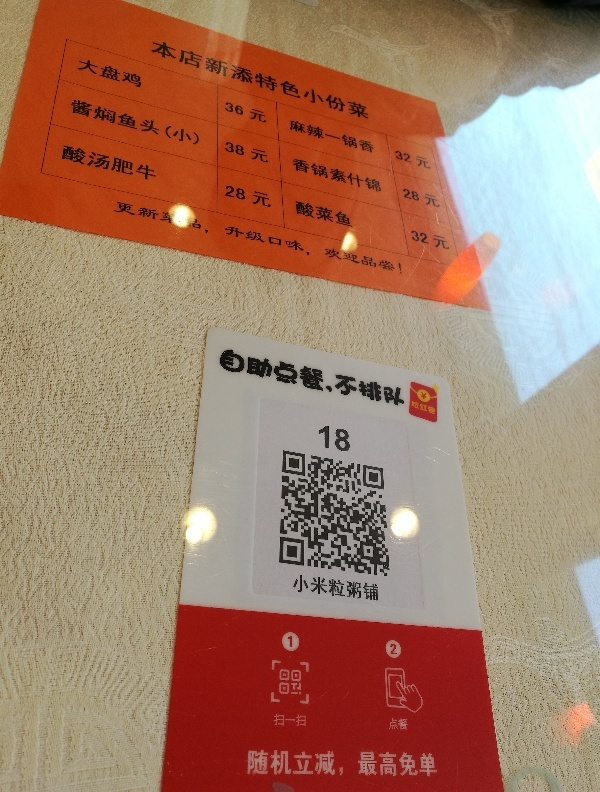text: (161, 37, 176, 122), (177, 37, 192, 122), (193, 37, 208, 122), (209, 37, 224, 122), (225, 37, 240, 122), (241, 37, 256, 122), (257, 37, 272, 122), (273, 37, 288, 122), (289, 37, 304, 122), (305, 37, 320, 122), (321, 37, 336, 122), (337, 37, 352, 122), (353, 37, 368, 122), (129, 200, 144, 276), (145, 200, 160, 276), (161, 200, 176, 276), (177, 200, 192, 276), (193, 200, 208, 276), (209, 200, 224, 276), (225, 200, 240, 276), (241, 200, 256, 276), (257, 200, 272, 276), (273, 200, 288, 276), (289, 200, 304, 276), (305, 200, 320, 276), (321, 200, 336, 276), (337, 200, 352, 276), (353, 200, 368, 276), (369, 200, 384, 276), (385, 200, 400, 276), (225, 348, 240, 409), (241, 348, 256, 409), (257, 348, 272, 409), (273, 348, 288, 409), (289, 348, 304, 409), (305, 348, 320, 409), (321, 348, 336, 409), (337, 348, 352, 409), (353, 348, 368, 409), (369, 348, 384, 409), (385, 348, 400, 409), (116, 200, 128, 276), (81, 97, 96, 147), (97, 97, 112, 147), (113, 97, 128, 147), (129, 97, 144, 147), (145, 97, 160, 147), (161, 97, 176, 147), (177, 97, 192, 147), (65, 143, 80, 184), (81, 143, 96, 184), (97, 143, 112, 184), (113, 143, 128, 184), (129, 143, 144, 184), (145, 143, 160, 184), (401, 348, 410, 409), (305, 118, 320, 154), (321, 118, 336, 154), (337, 118, 352, 154), (353, 118, 368, 154), (305, 157, 320, 193), (321, 157, 336, 193), (337, 157, 352, 193), (353, 157, 368, 193), (154, 37, 160, 122), (81, 56, 96, 89), (97, 56, 112, 89), (113, 56, 128, 89), (129, 56, 144, 89), (321, 423, 336, 454), (337, 423, 352, 454), (193, 97, 202, 147), (305, 573, 320, 603), (321, 573, 336, 603), (337, 573, 352, 603), (353, 573, 368, 603), (337, 200, 353, 228), (257, 749, 272, 778), (273, 749, 288, 778), (289, 749, 304, 778), (305, 749, 320, 778), (321, 749, 336, 778), (337, 749, 352, 778), (353, 749, 368, 778), (369, 749, 384, 778), (385, 749, 400, 778), (401, 749, 416, 778), (417, 749, 432, 778), (292, 118, 304, 154), (369, 157, 381, 193), (305, 200, 320, 228), (321, 200, 336, 228), (72, 97, 80, 147), (241, 140, 256, 165), (241, 184, 256, 209), (257, 184, 272, 209), (294, 157, 304, 193), (369, 573, 381, 603), (226, 184, 240, 209), (241, 101, 256, 124), (401, 149, 416, 171), (417, 149, 432, 171), (417, 229, 432, 251), (433, 229, 448, 251), (227, 140, 240, 165), (257, 140, 270, 165), (226, 101, 240, 124), (417, 188, 432, 209), (294, 573, 304, 603), (246, 749, 256, 778), (369, 118, 377, 154), (404, 188, 416, 209), (257, 101, 267, 124), (401, 200, 404, 276), (417, 401, 432, 415), (273, 713, 288, 727), (289, 713, 304, 727), (297, 200, 304, 228), (221, 348, 224, 409), (369, 37, 371, 122), (433, 188, 440, 209), (433, 749, 438, 778), (389, 718, 400, 731), (401, 718, 410, 731), (390, 644, 400, 655), (396, 149, 400, 171), (412, 229, 416, 251), (421, 392, 432, 400), (289, 635, 294, 648), (353, 423, 355, 454), (412, 401, 416, 415), (433, 401, 437, 415), (449, 229, 451, 251), (305, 713, 308, 727), (145, 56, 146, 89)
